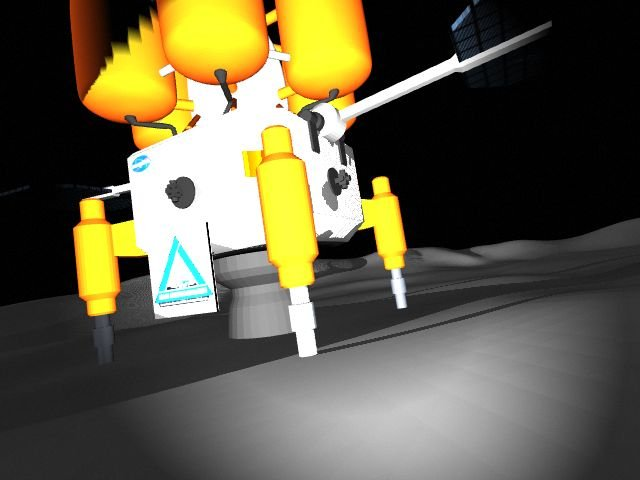basemarker: (154, 234, 212, 308)
